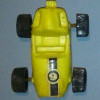amarillo_sur: (16, 1, 86, 96)
